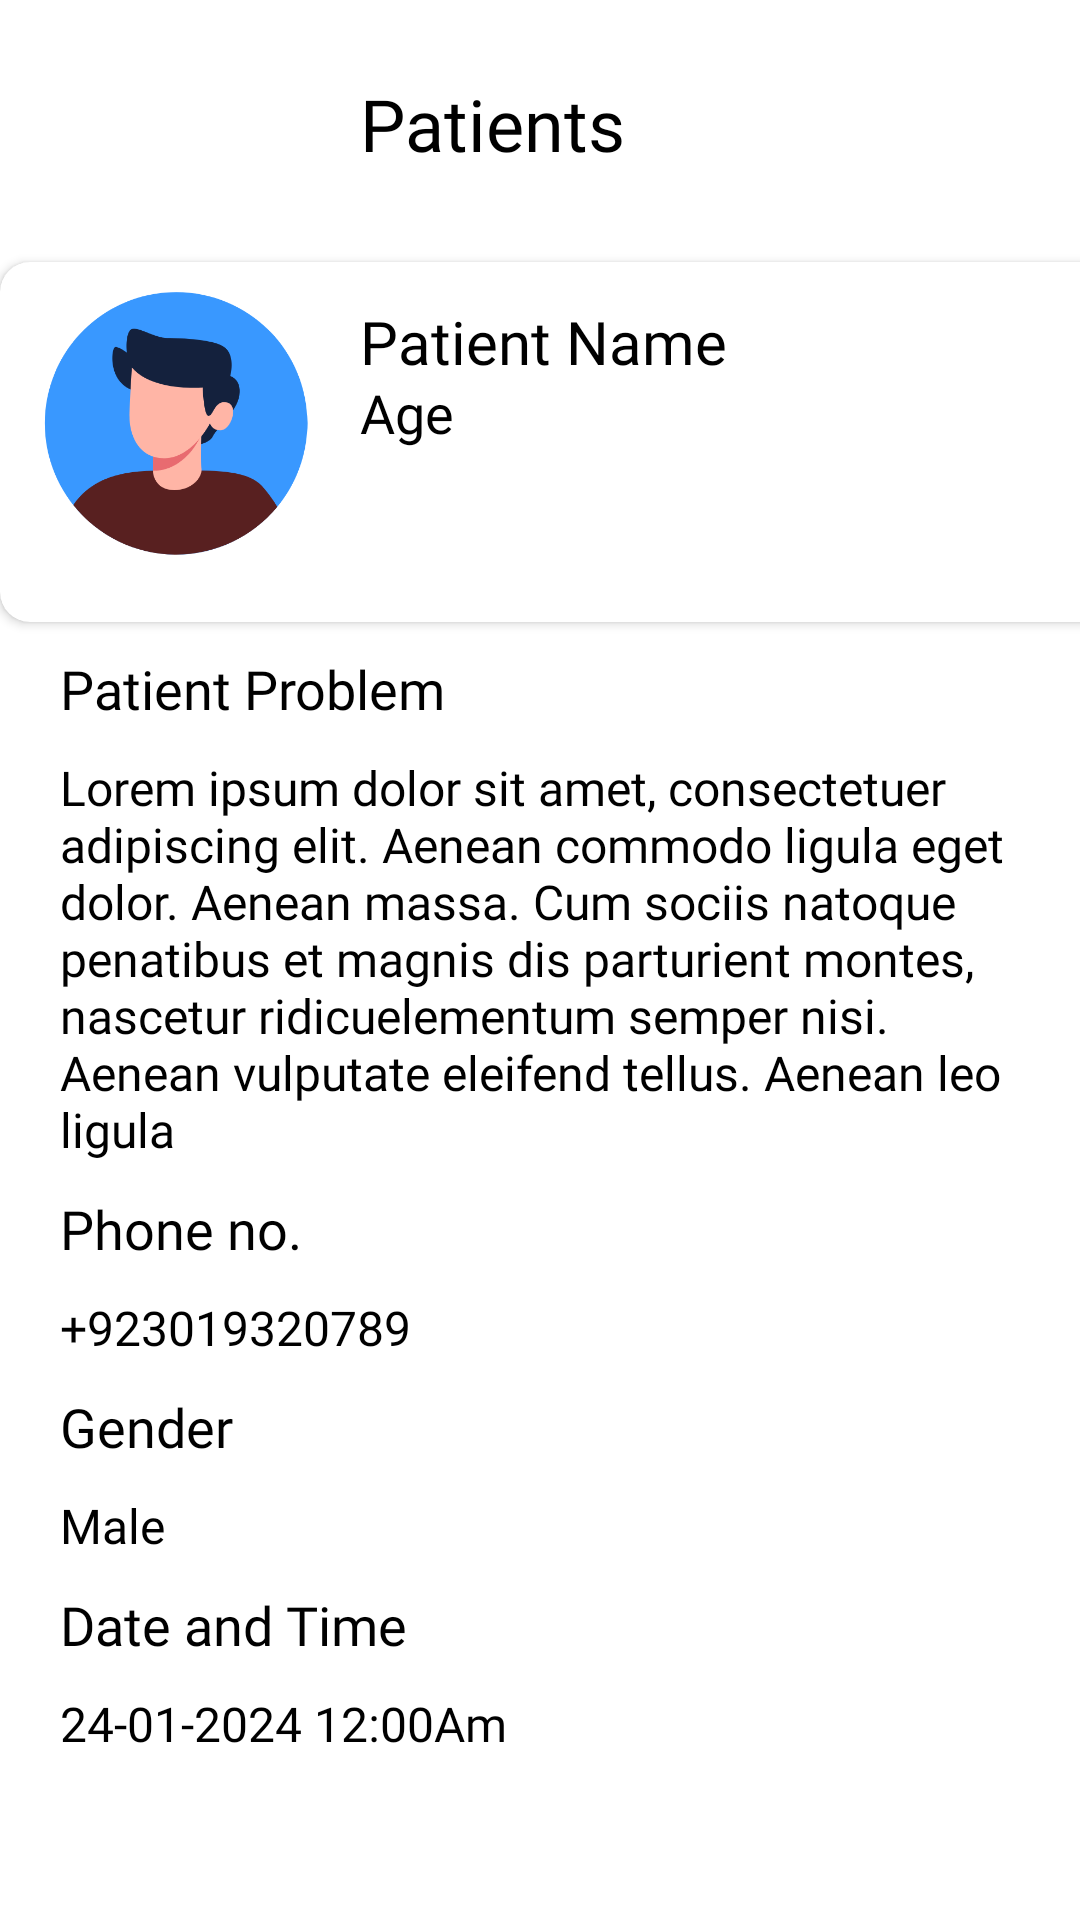

Locate icon controls on the screen. Image size 1080px×1920px, boxes as (x1, y1, x2, y2).
person: (45, 292, 308, 555)
